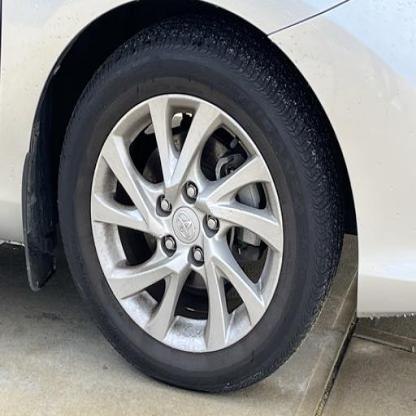Tire: (58, 19, 343, 393)
